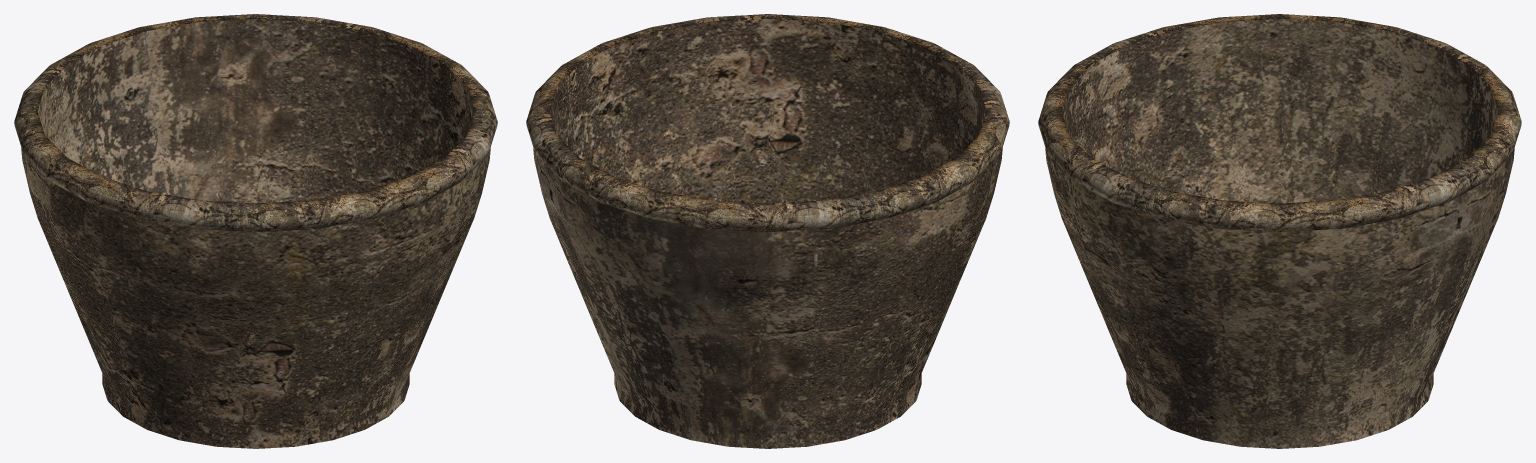
The model's file is materials_5_pot_6.fbx.
The picture shows the model from 3 angles, left to right: view 1: azimuth 30°, elevation 25°; view 2: azimuth 150°, elevation 25°; view 3: azimuth 270°, elevation 25°; orthographic projection.
Visible parts, largest first — view 1: materials_5_pot_6; view 2: materials_5_pot_6; view 3: materials_5_pot_6.
Boxes of the visible parts, box(x1,y1,x2,y2) form: materials_5_pot_6: box(14, 14, 497, 448); materials_5_pot_6: box(526, 14, 1009, 448); materials_5_pot_6: box(1038, 14, 1521, 448).
Size of the model in its own units: 46.91 by 29.26 by 46.91.
